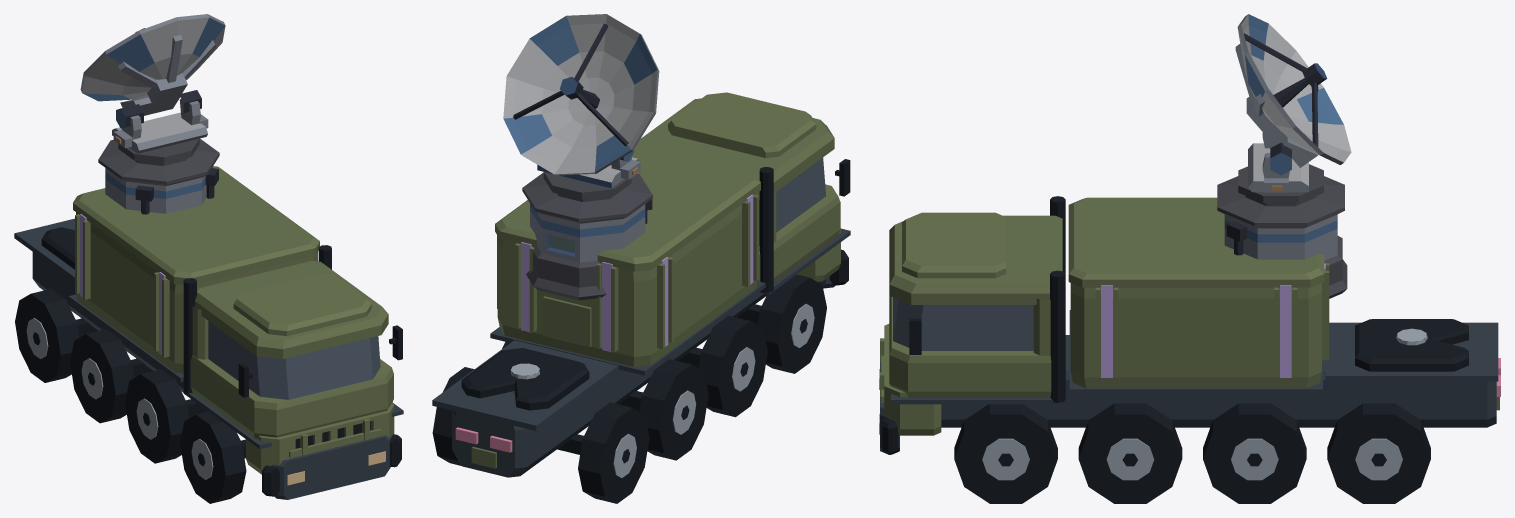
File: radar.glb
3 renders of one model, left to right at view 1: azimuth 30°, elevation 25°; view 2: azimuth 150°, elevation 25°; view 3: azimuth 270°, elevation 25°, orthographic. The views are drawn at different scales.
Visible parts, largest first — view 1: eight-wheel-industrial-hauler, dish, dish-pedestal, wheel-1r, yoke-head, wheel-2r, wheel-4r, wheel-3r; view 2: eight-wheel-industrial-hauler, dish, dish-pedestal, wheel-4r, wheel-2r, wheel-3r, wheel-1r, yoke-head, wheel-4l; view 3: eight-wheel-industrial-hauler, dish, wheel-2l, wheel-3l, wheel-4l, dish-pedestal, wheel-1l, yoke-head.
Boxes of the visible parts, box(x1,y1,x2,y2) form: eight-wheel-industrial-hauler: box(14, 166, 403, 499); dish: box(80, 14, 225, 115); dish-pedestal: box(98, 138, 219, 214); wheel-1r: box(180, 411, 246, 503); yoke-head: box(112, 90, 208, 163); wheel-2r: box(125, 369, 189, 463); wheel-4r: box(15, 288, 79, 382); wheel-3r: box(70, 329, 134, 423); eight-wheel-industrial-hauler: box(432, 92, 850, 477); dish: box(503, 14, 659, 175); dish-pedestal: box(522, 172, 652, 300); wheel-4r: box(578, 402, 649, 503); wheel-2r: box(698, 315, 767, 417); wheel-3r: box(639, 359, 708, 460); wheel-1r: box(757, 274, 826, 373); yoke-head: box(537, 150, 640, 199); wheel-4l: box(432, 367, 474, 465); eight-wheel-industrial-hauler: box(879, 196, 1500, 454); dish: box(1235, 14, 1351, 167); wheel-2l: box(1078, 403, 1182, 503); wheel-3l: box(1203, 403, 1306, 503); wheel-4l: box(1327, 403, 1430, 503); dish-pedestal: box(1217, 176, 1347, 298); wheel-1l: box(954, 404, 1057, 503); yoke-head: box(1238, 127, 1323, 203).
Size of the model in its own units: 4 by 9.3 by 12.
